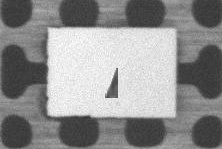DIE_INK: (156, 46, 176, 66)
